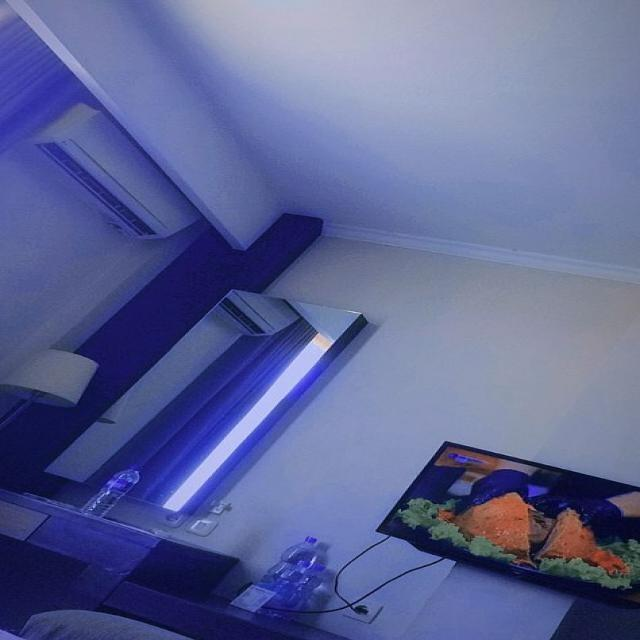AC: (23, 100, 199, 243)
AIO PC-Monitor-TV: (373, 440, 639, 608)
